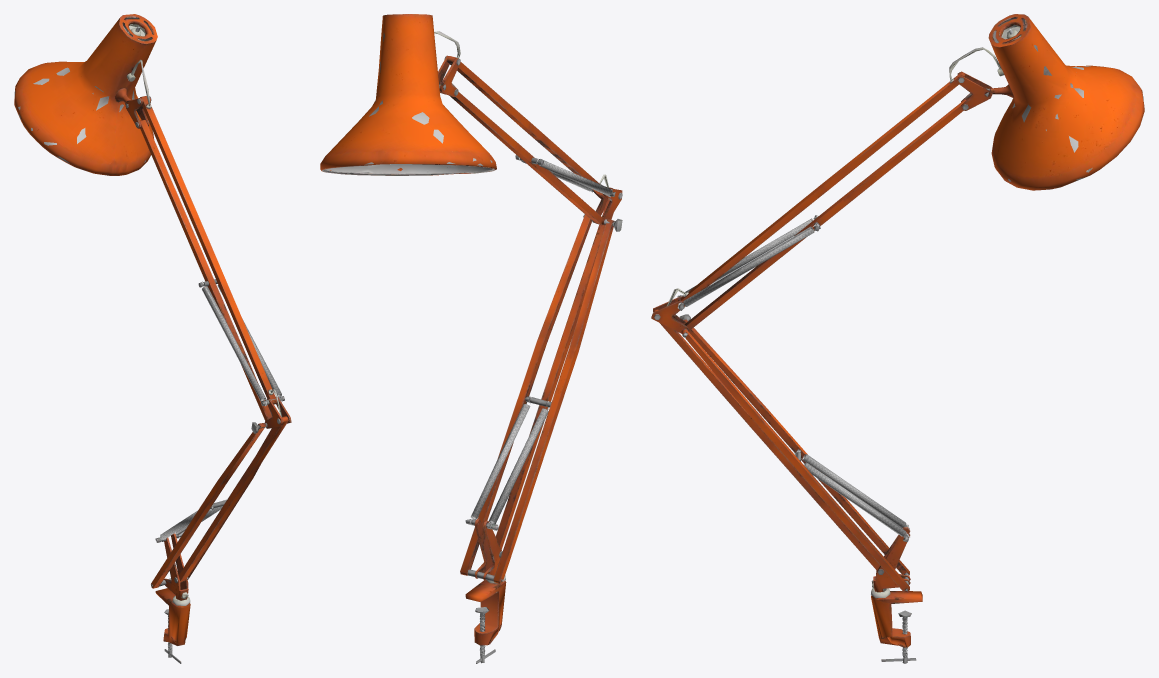
File: desk_lamp_arm_01.glb
3 views of the same model, side by side, from view 1: azimuth 30°, elevation 25°; view 2: azimuth 150°, elevation 25°; view 3: azimuth 270°, elevation 25° (orthographic). The views are drawn at different scales.
Visible parts, largest first — view 1: desk_lamp_arm_01; view 2: desk_lamp_arm_01; view 3: desk_lamp_arm_01.
Boxes of the visible parts, x1,y1,x2,y2 form: desk_lamp_arm_01: [14, 14, 291, 663]; desk_lamp_arm_01: [320, 14, 622, 663]; desk_lamp_arm_01: [651, 14, 1144, 663].
Bounding box in the file's own units: 0.2017 × 0.8926 × 0.6132.
2 materials, 2 textured.
